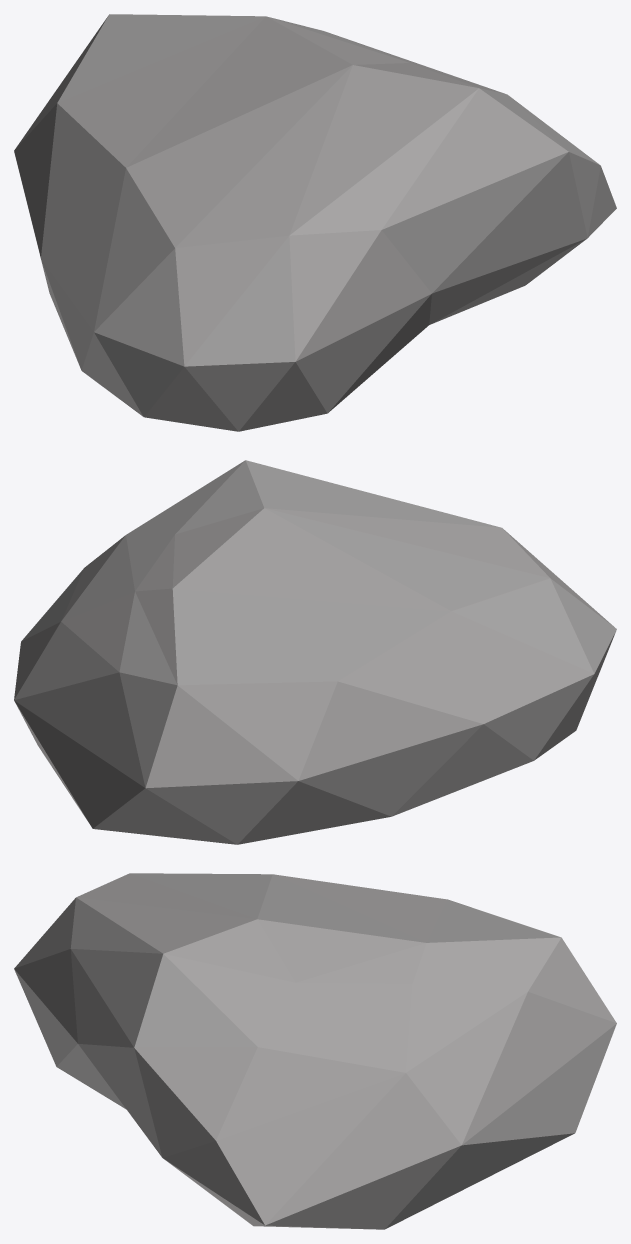
The model's file is Rock9.fbx.
3 renders of one model, top to bottom at view 1: azimuth 30°, elevation 25°; view 2: azimuth 150°, elevation 25°; view 3: azimuth 270°, elevation 25°, orthographic. The views are drawn at different scales.
Visible parts, largest first — view 1: Small Rock 4; view 2: Small Rock 4; view 3: Small Rock 4.
Part boxes in pixels (x1,y1,x2,y2): Small Rock 4: (14,14,616,431); Small Rock 4: (14,460,616,844); Small Rock 4: (14,873,616,1229).
Bounding box in the file's own units: 222 × 221 × 94.39.
